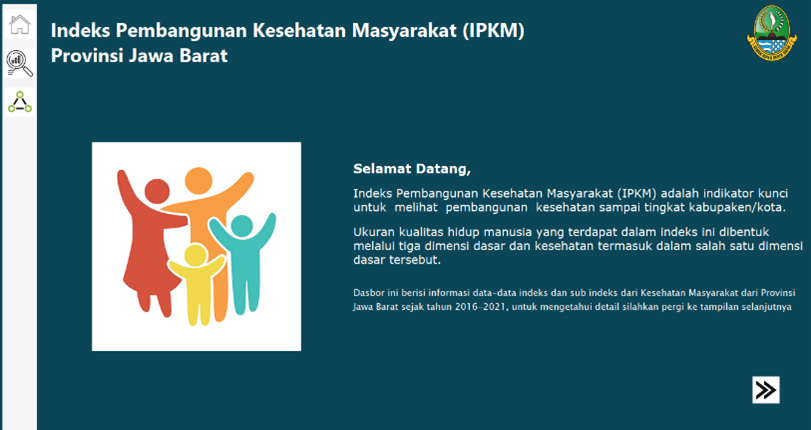

The page's visual inventory and layout, read from the dashboard file:
{"tool":"tableau","page":{"name":"Home Dashboard","canvas":[1000,1000],"units":"permille","ordinal":1},"visuals":[{"type":"image","param":"Image/Logo-propinsi-jawa-barat.png","box":[906.5,23.7,75.3,126.7]},{"type":"dashboard-object","box":[14.5,27,51.6,86.2]},{"type":"text","box":[80.6,27,799.8,209.5]},{"type":"blank","box":[880.4,27,72.5,209.5]},{"type":"dashboard-object","box":[14.5,113.2,51.6,86.1]},{"type":"dashboard-object","box":[14.5,199.3,51.6,86.2]},{"type":"blank","box":[77,243.2,220.1,162.2]},{"type":"text","box":[297.1,243.2,692,638.5]},{"type":"blank","box":[14.5,285.5,51.6,86.2]},{"type":"blank","box":[14.5,371.6,51.6,86.2]},{"type":"image","param":"Image/family.jpg","box":[77,405.4,220.1,351.4]},{"type":"blank","box":[14.5,457.8,51.6,86.2]},{"type":"blank","box":[14.5,543.9,51.6,86.2]},{"type":"blank","box":[14.5,630.1,51.6,86.2]},{"type":"blank","box":[14.5,716.2,51.6,86.1]},{"type":"blank","box":[77,756.8,220.1,125]},{"type":"blank","box":[14.5,802.4,51.6,86.2]},{"type":"dashboard-object","box":[918.1,856.4,38.1,60.8]},{"type":"blank","box":[77,881.8,912.1,98]},{"type":"blank","box":[14.5,888.5,51.6,84.5]}]}

Visuals, with their boxes on the dashboard's canvas, which has no fixed pixel size, in thousandths of its width and height (x1, y1, x2, y2). These are canvas units, not pixel positions in the 811x430 screenshot, which may show the page scaled, cropped or inside an application window:
image: x1=906 y1=24 x2=982 y2=150
dashboard-object: x1=14 y1=27 x2=66 y2=113
text: x1=81 y1=27 x2=880 y2=236
blank: x1=880 y1=27 x2=953 y2=236
dashboard-object: x1=14 y1=113 x2=66 y2=199
dashboard-object: x1=14 y1=199 x2=66 y2=286
blank: x1=77 y1=243 x2=297 y2=405
text: x1=297 y1=243 x2=989 y2=882
blank: x1=14 y1=286 x2=66 y2=372
blank: x1=14 y1=372 x2=66 y2=458
image: x1=77 y1=405 x2=297 y2=757
blank: x1=14 y1=458 x2=66 y2=544
blank: x1=14 y1=544 x2=66 y2=630
blank: x1=14 y1=630 x2=66 y2=716
blank: x1=14 y1=716 x2=66 y2=802
blank: x1=77 y1=757 x2=297 y2=882
blank: x1=14 y1=802 x2=66 y2=889
dashboard-object: x1=918 y1=856 x2=956 y2=917
blank: x1=77 y1=882 x2=989 y2=980
blank: x1=14 y1=888 x2=66 y2=973
